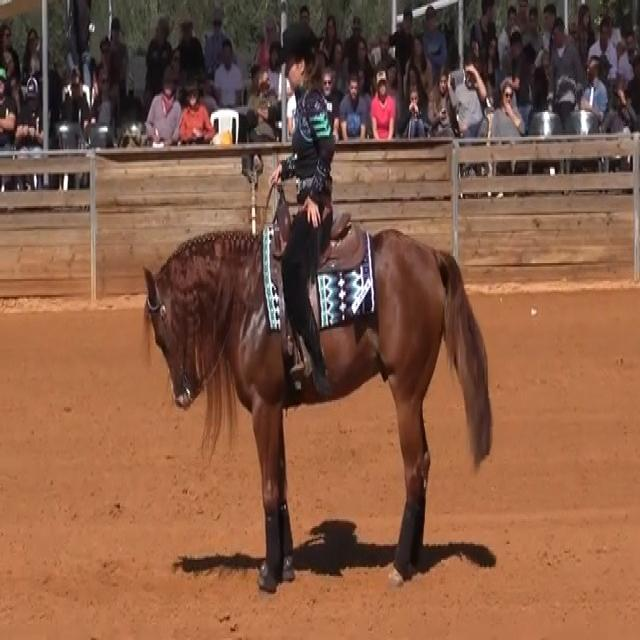horse: (140, 214, 493, 590)
